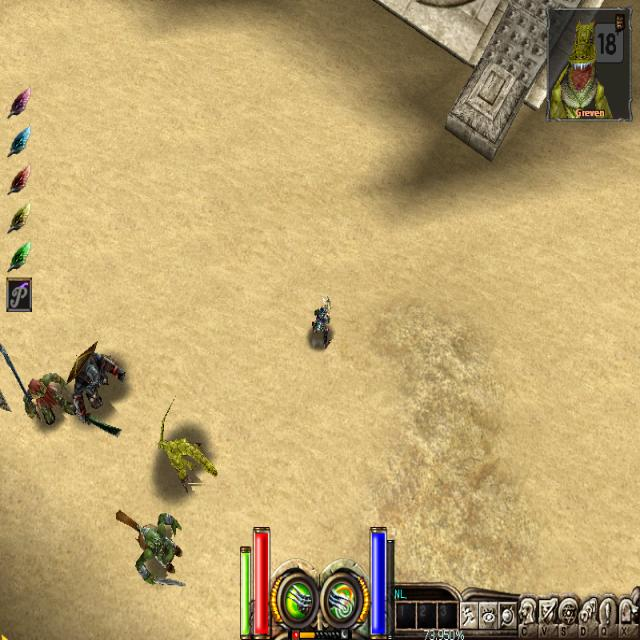hero: (287, 276, 353, 374)
monster: (154, 406, 238, 519), (12, 339, 73, 442), (123, 488, 177, 590), (66, 326, 120, 423)
